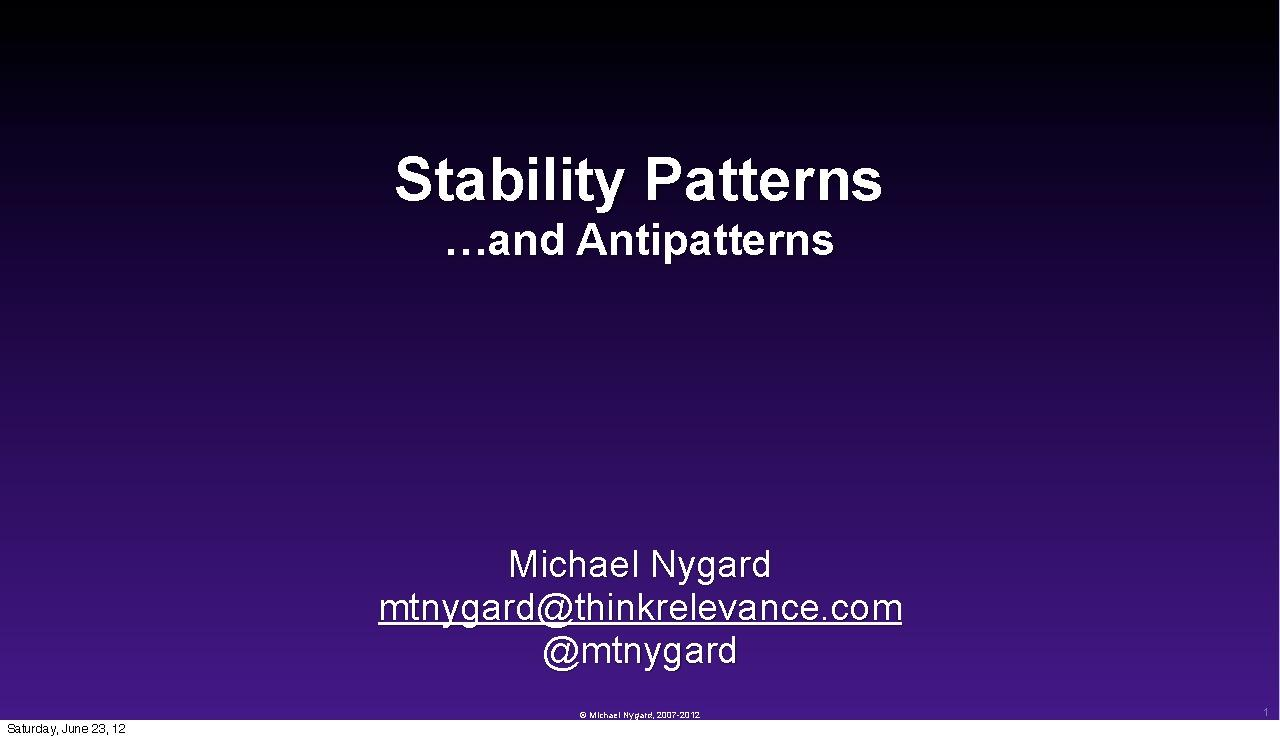subtitle: (371, 517, 936, 728)
title: (376, 103, 948, 319)
